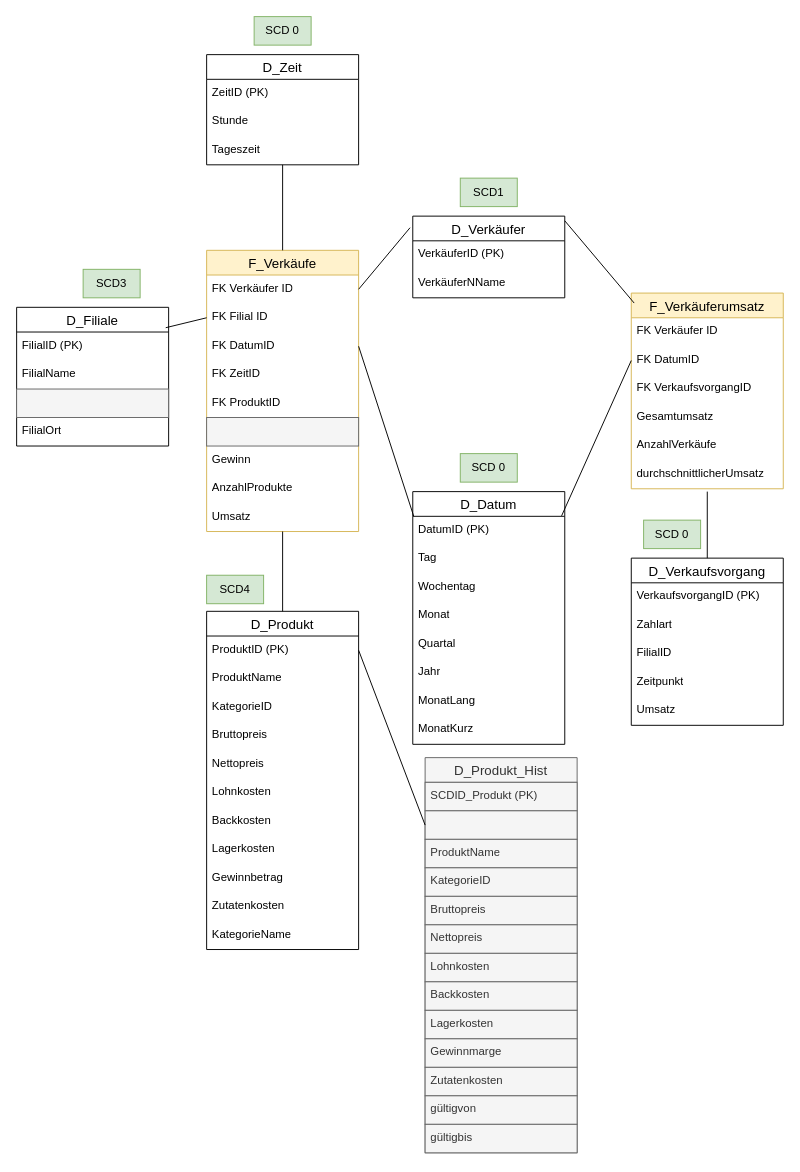
This 800x1172 diagram has some shape labels left out. The centre of each missing label's shape, as x and y in pixels:
"FilialName_Hist" belongs at [92,403].
"FK SCDID_Produkt" belongs at [282,431].
"ProduktID (FK)" belongs at [500,824].
